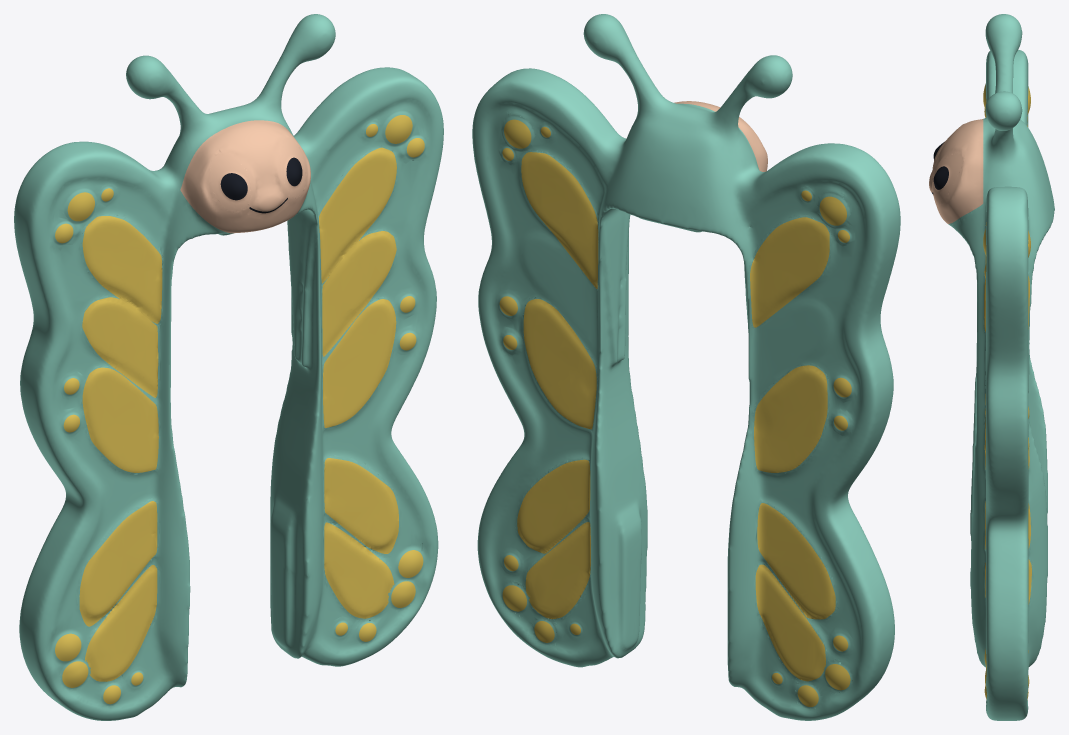
Rendered from borboletoscopio.glb.
3 renders of one model, left to right at view 1: azimuth 30°, elevation 25°; view 2: azimuth 150°, elevation 25°; view 3: azimuth 270°, elevation 25°, orthographic. The views are drawn at different scales.
Parts seen in each view (by area): view 1: borboletoscopio; view 2: borboletoscopio; view 3: borboletoscopio.
Boxes of the visible parts, x1=… form: borboletoscopio: x1=14, y1=14, x2=443, y2=720; borboletoscopio: x1=472, y1=14, x2=900, y2=720; borboletoscopio: x1=929, y1=14, x2=1054, y2=720.
Size of the model in its own units: 1.15 by 1.72 by 0.3232.
